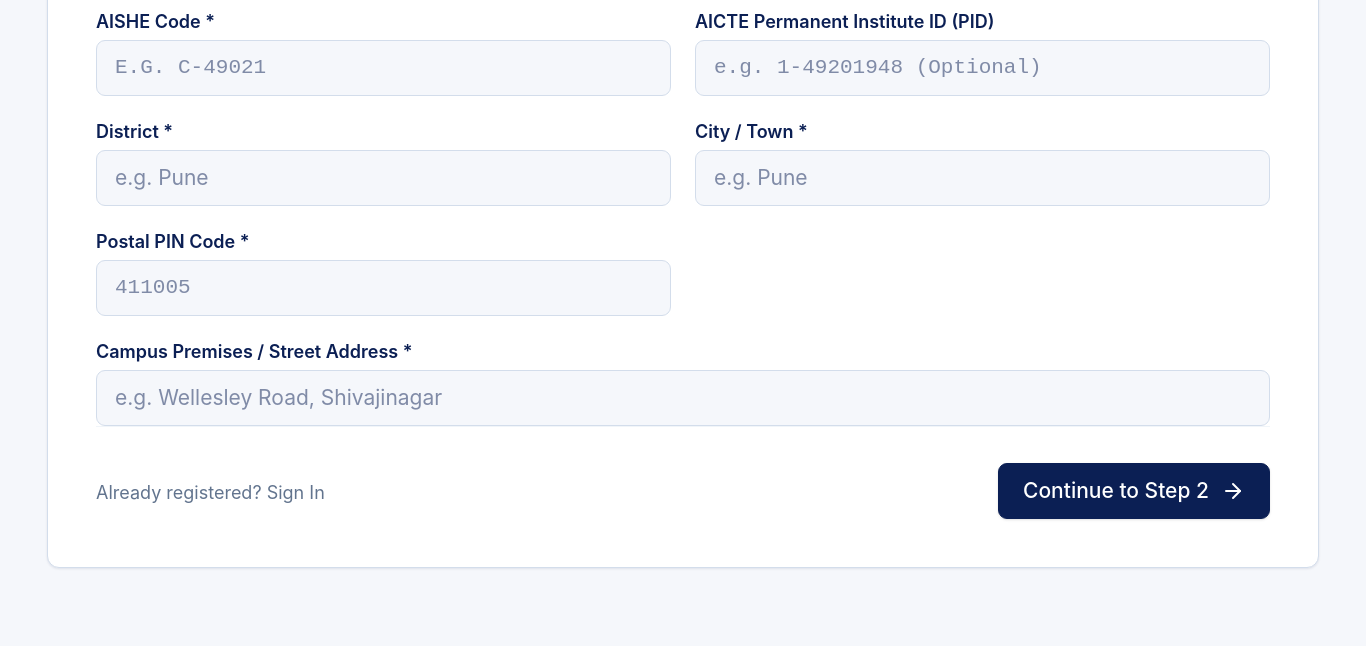
Test: Module 02: React UI & Authentication Workflows › 14. Registration validation prevents advancing with invalid required fields
(page scrolled)
Click the button "Continue to Step 2".
click(1134, 491)  # box x1=998 y1=463 x2=1270 y2=519
(page scrolled)
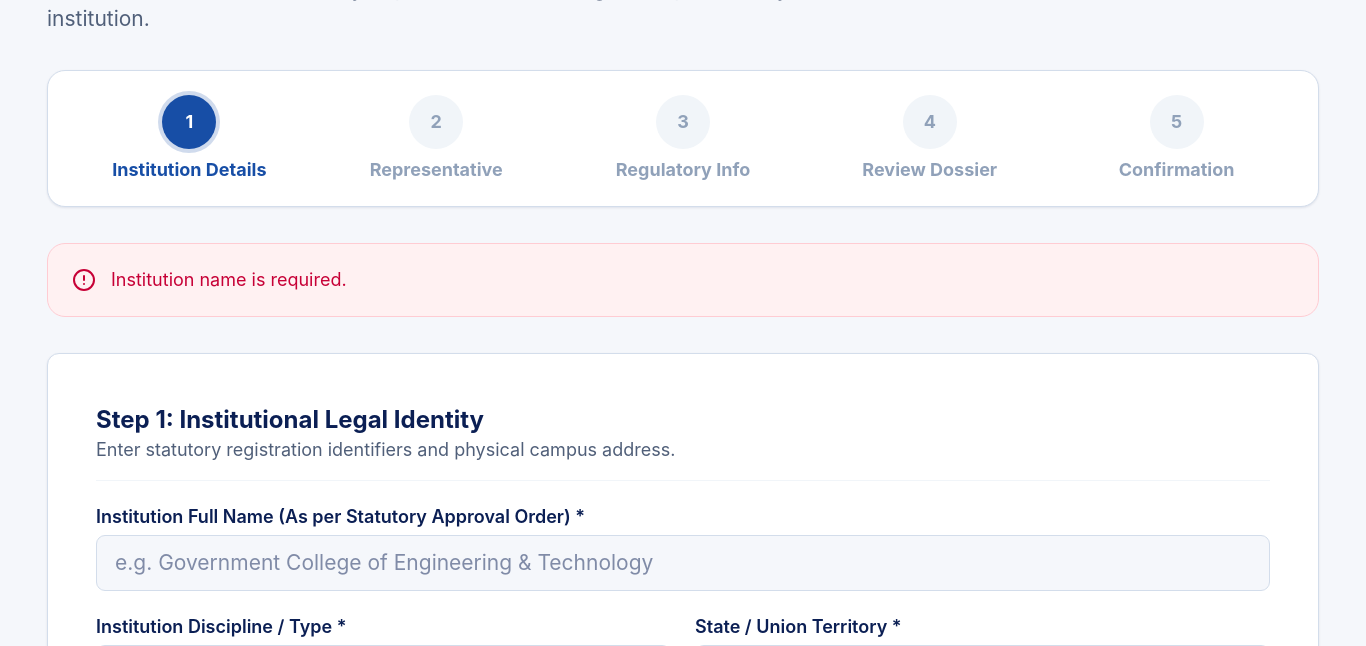
Result: the text "Institution name is required." is shown at x1=111 y1=268 x2=347 y2=292
